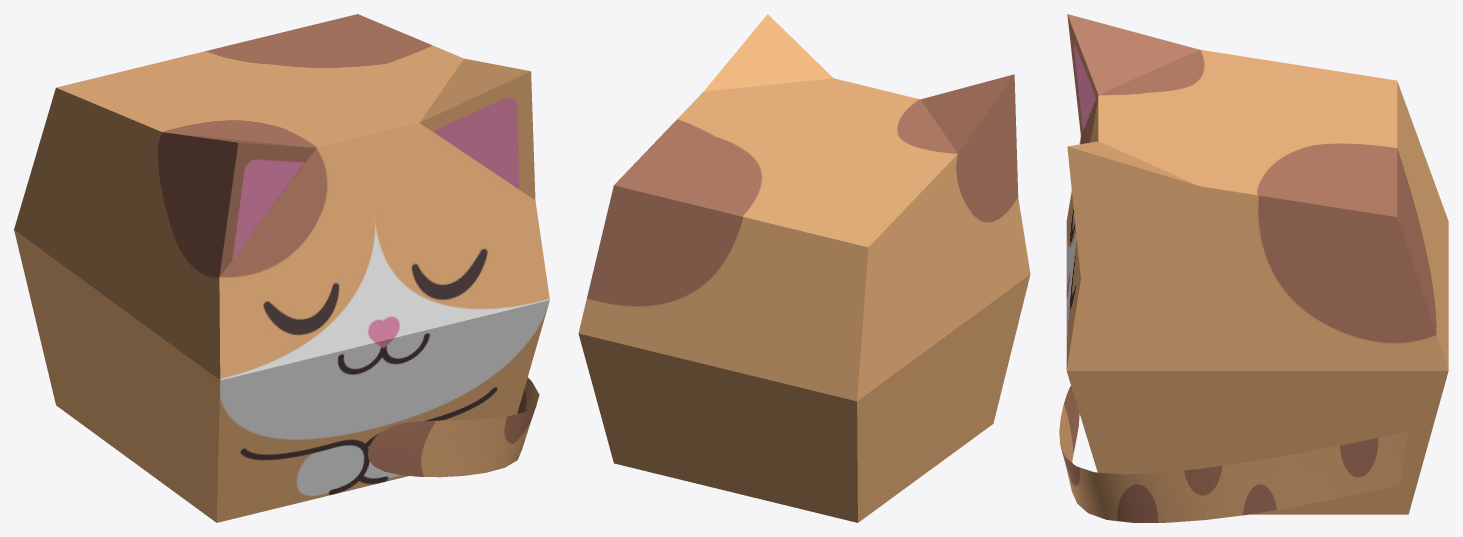
The model's file is Gatito dormido.glb.
3 views of the same model, side by side, from view 1: azimuth 30°, elevation 25°; view 2: azimuth 150°, elevation 25°; view 3: azimuth 270°, elevation 25° (orthographic). The views are drawn at different scales.
Parts seen in each view (by area): view 1: Gatito, Cola; view 2: Gatito; view 3: Gatito, Cola.
Boxes of the visible parts, box(x1,y1,x2,y2) form: Gatito: box(14, 14, 549, 522); Cola: box(367, 377, 539, 477); Gatito: box(578, 14, 1030, 522); Gatito: box(1066, 14, 1448, 514); Cola: box(1059, 386, 1407, 522).
Bounding box in the file's own units: 0.3797 × 0.4197 × 0.4014.
1 material, 1 textured.
